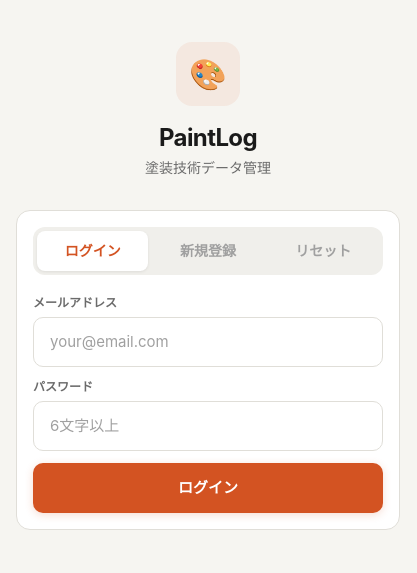
ログイン画面 › ログイン失敗でエラーメッセージを表示する
Type "bad@example.com" into the field.
click(208, 342); type("bad@example.com")  # box [33,317,383,367]
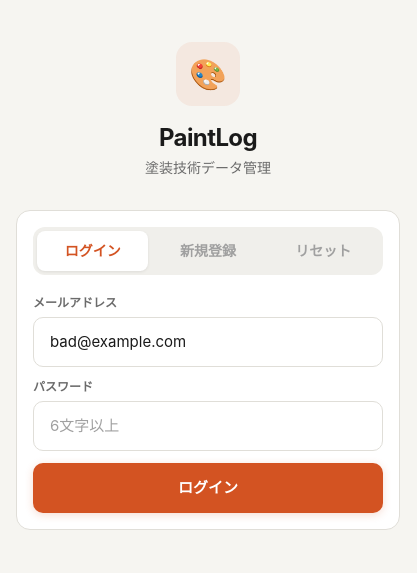
Type "wrong" into the password field with placeholder "6文字以上".
click(208, 426); type("wrong")  # box [33,401,383,451]
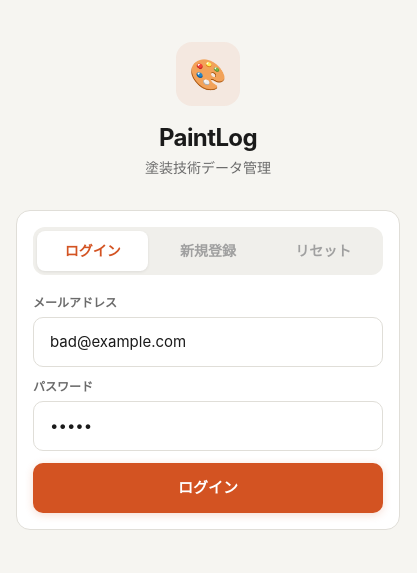
Submit the form from the submit button, box [33,463,383,513]
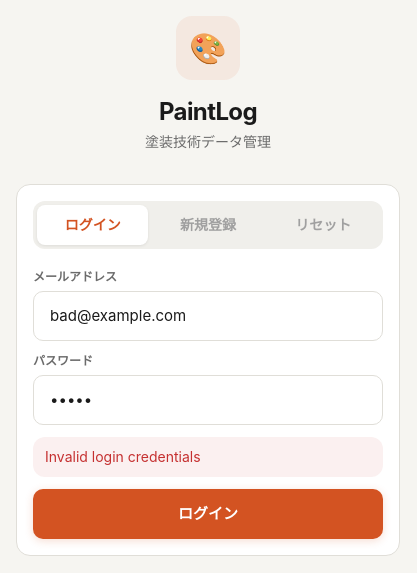
Result: the text "Invalid login credentials" is shown at [33,437,383,477]
